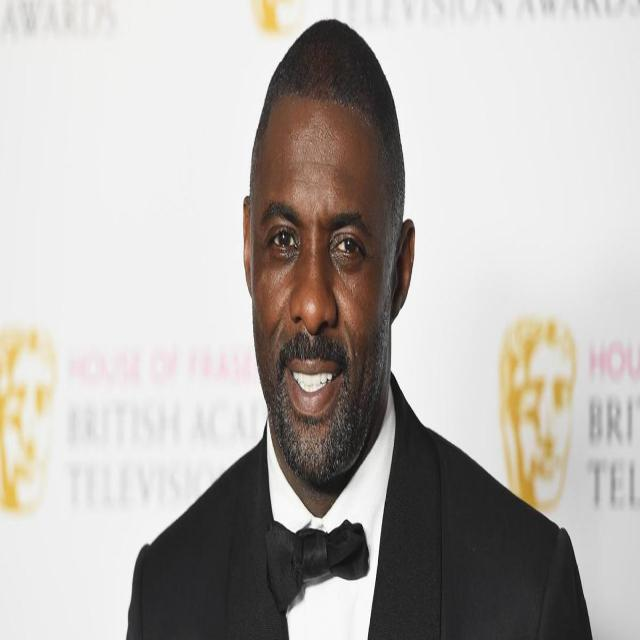human: (119, 15, 597, 640)
